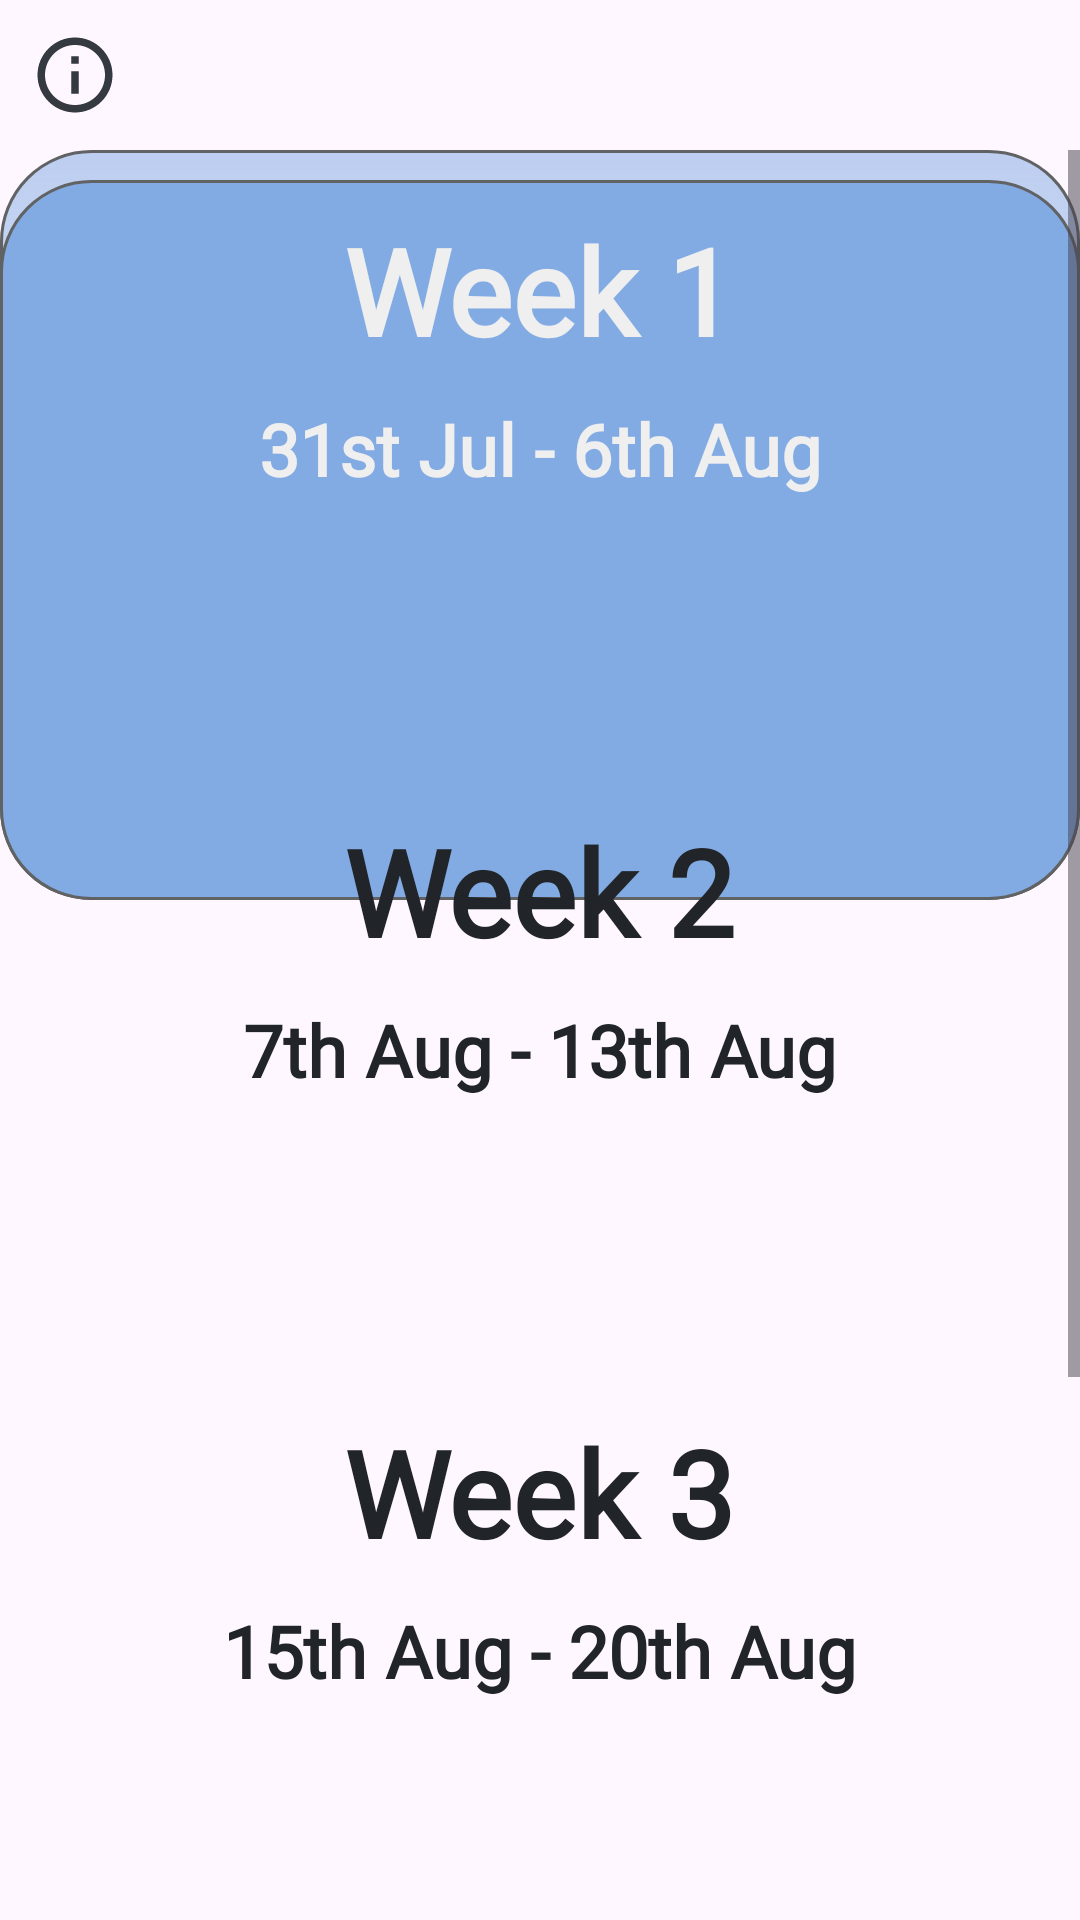

Icons on this 1080x1920 Android screen, each with its box as (x1, y1, x2, y2):
info: (37, 37, 113, 113)
